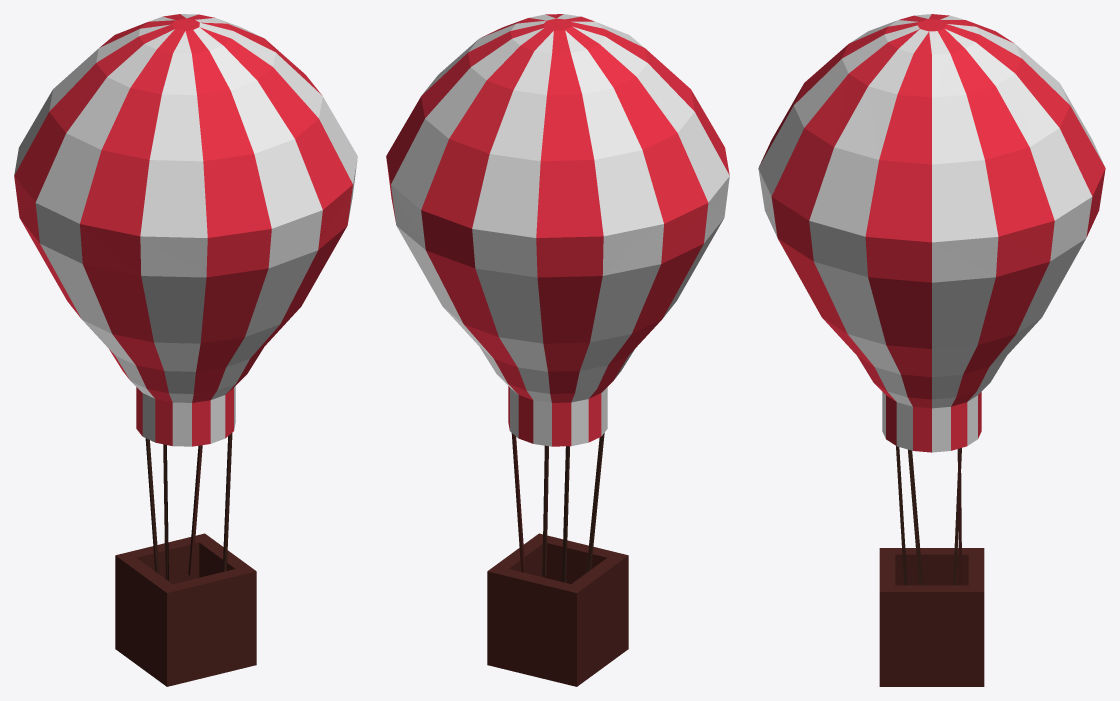
File: airballoon.dae
The picture shows the model from 3 angles, left to right: view 1: azimuth 30°, elevation 25°; view 2: azimuth 150°, elevation 25°; view 3: azimuth 270°, elevation 25°; orthographic projection.
Parts seen in each view (by area): view 1: Cylinder, Cube, Cube.001, Cube.004, Cube.002, Cube.003; view 2: Cylinder, Cube, Cube.003, Cube.002, Cube.004, Cube.001; view 3: Cylinder, Cube, Cube.003, Cube.001, Cube.002.
Part boxes in pixels (x1,y1,x2,y2): Cylinder: [14, 14, 357, 446]; Cube: [115, 533, 256, 686]; Cube.001: [222, 433, 232, 571]; Cube.004: [145, 438, 159, 574]; Cube.002: [188, 445, 202, 575]; Cube.003: [163, 444, 168, 580]; Cylinder: [386, 14, 729, 446]; Cube: [487, 533, 628, 686]; Cube.003: [586, 433, 604, 572]; Cube.002: [511, 433, 525, 572]; Cube.004: [562, 446, 569, 582]; Cube.001: [542, 445, 548, 576]; Cylinder: [758, 14, 1105, 452]; Cube: [879, 548, 984, 686]; Cube.003: [908, 449, 923, 585]; Cube.001: [896, 446, 907, 585]; Cube.002: [957, 448, 962, 585].
Size of the model in its own units: 6.71 by 6.64 by 13.49.
